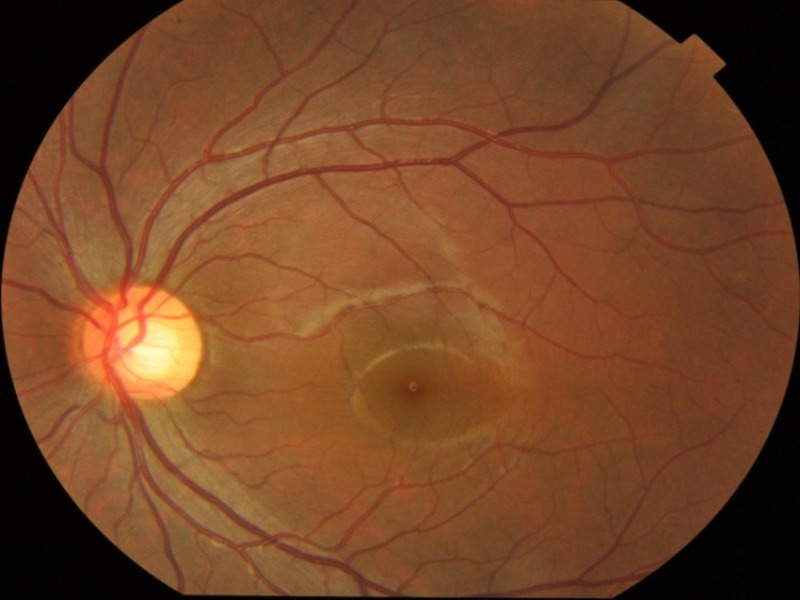Optic Cup: (118, 320, 177, 376)
Optic Disc: (75, 283, 201, 401)
